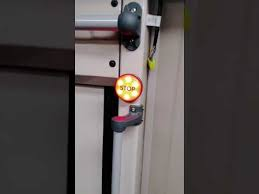bell: (113, 72, 144, 104)
